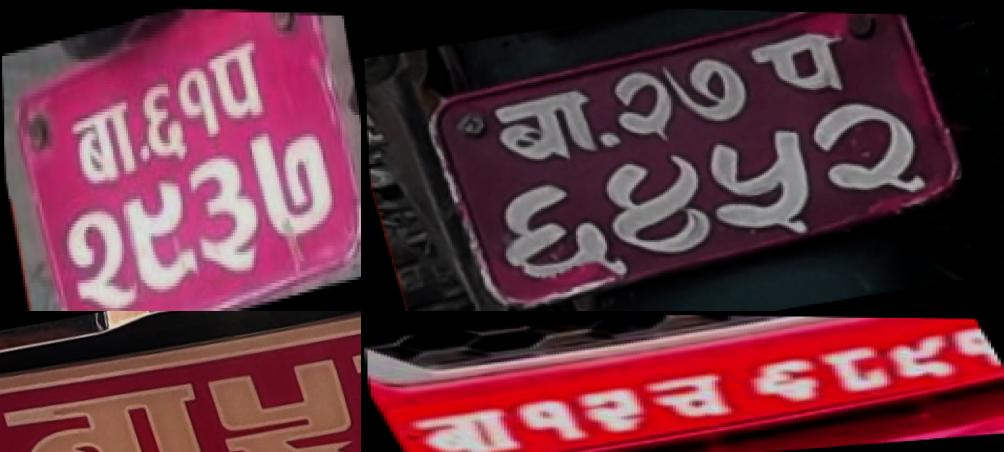0: (0, 367, 223, 452), (486, 84, 604, 171)
1: (803, 88, 935, 204), (601, 62, 681, 146), (172, 54, 223, 155), (506, 396, 597, 442), (945, 324, 1003, 367)
2: (55, 191, 137, 311), (565, 385, 653, 433)
3: (179, 142, 267, 288)
4: (483, 170, 625, 292)
5: (590, 143, 723, 265)
6: (203, 346, 361, 452), (694, 118, 826, 242), (135, 72, 187, 170), (734, 355, 835, 401)
7: (243, 108, 340, 248), (659, 40, 759, 130)
8: (742, 18, 863, 104), (808, 343, 900, 391)
9: (118, 166, 199, 292), (874, 330, 968, 378)
ba: (62, 92, 140, 198), (401, 406, 525, 452)
cha: (639, 370, 744, 422)
pa: (203, 30, 271, 132)
